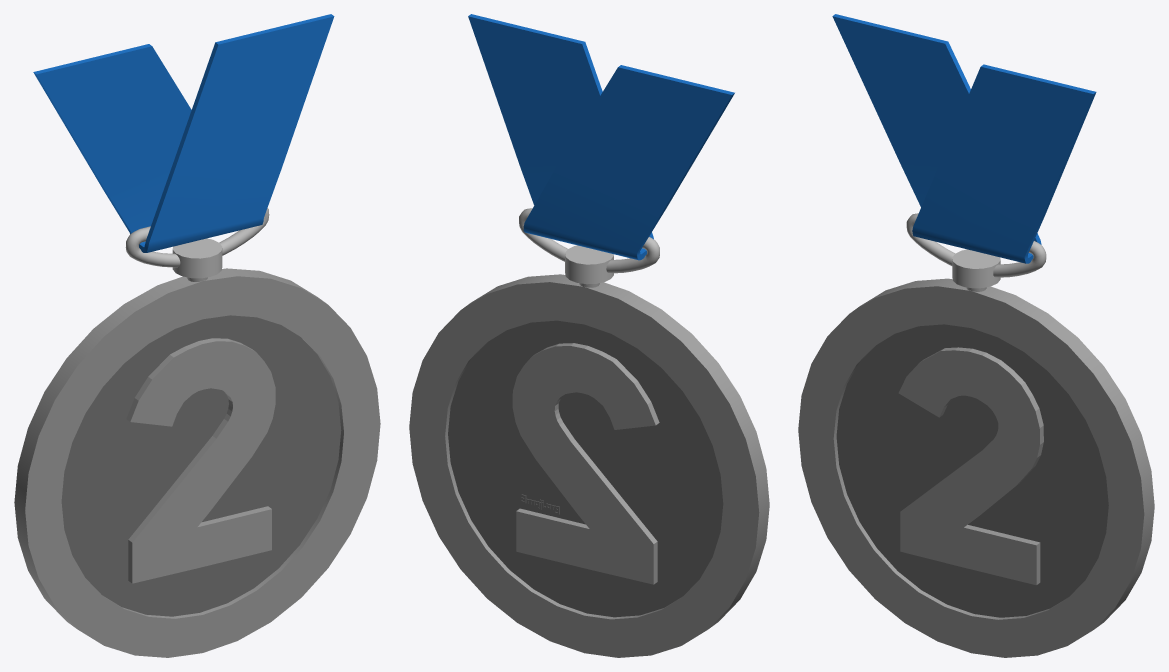
The model's file is 2nd_place_medal.fbx.
The picture shows the model from 3 angles, left to right: view 1: azimuth 30°, elevation 25°; view 2: azimuth 150°, elevation 25°; view 3: azimuth 330°, elevation 25°; orthographic projection. The views are drawn at different scales.
Parts seen in each view (by area): view 1: Circle.2516; view 2: Circle.2516; view 3: Circle.2516.
Part boxes in pixels (x1,y1,x2,y2): Circle.2516: (14, 14, 380, 657); Circle.2516: (409, 14, 769, 657); Circle.2516: (798, 14, 1154, 657).
Bounding box in the file's own units: 140 × 229 × 17.11.
Materials: 1 (1 with a texture image).
